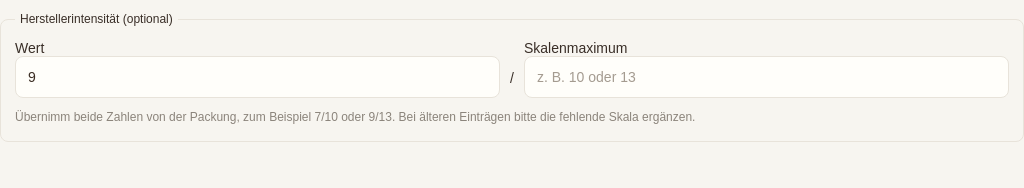
Test case: Manufacturer intensity with an explicit scale › requires both numbers and previews the normalized comparison
Type "13" into the number field named "Herstellerintensität Skalenmaximum".
click(766, 77); type("13")  # box x1=524 y1=56 x2=1009 y2=98
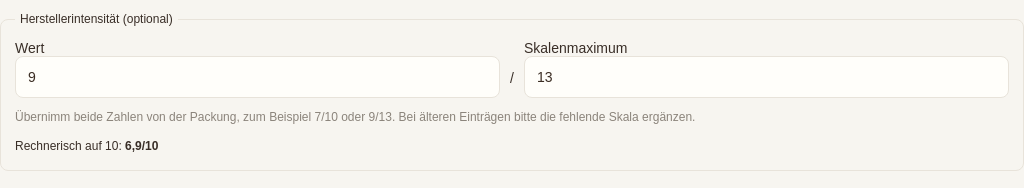
Result: the message shows "6,9/10" at x1=15 y1=139 x2=158 y2=153
